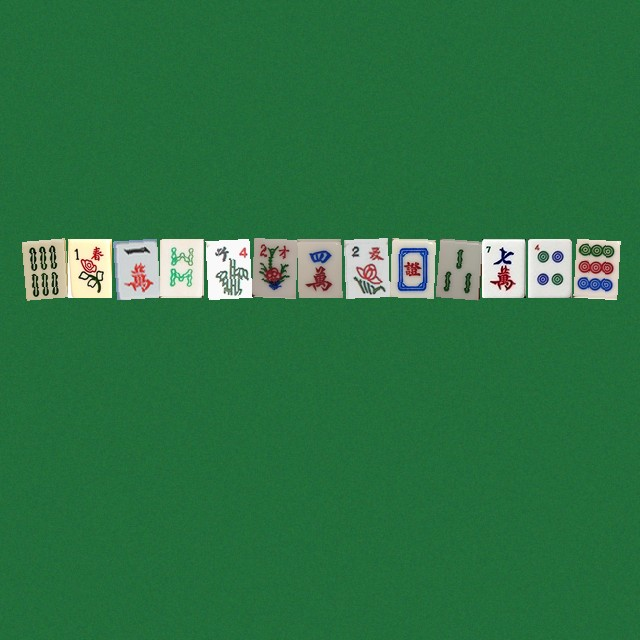tile: (21, 238, 65, 297), (67, 238, 111, 297), (113, 238, 157, 297), (159, 238, 203, 297), (205, 238, 249, 297), (251, 238, 295, 297), (297, 238, 341, 297), (343, 238, 387, 297), (389, 238, 433, 297), (435, 238, 479, 297), (481, 238, 525, 297), (527, 238, 571, 297), (573, 238, 617, 297)
